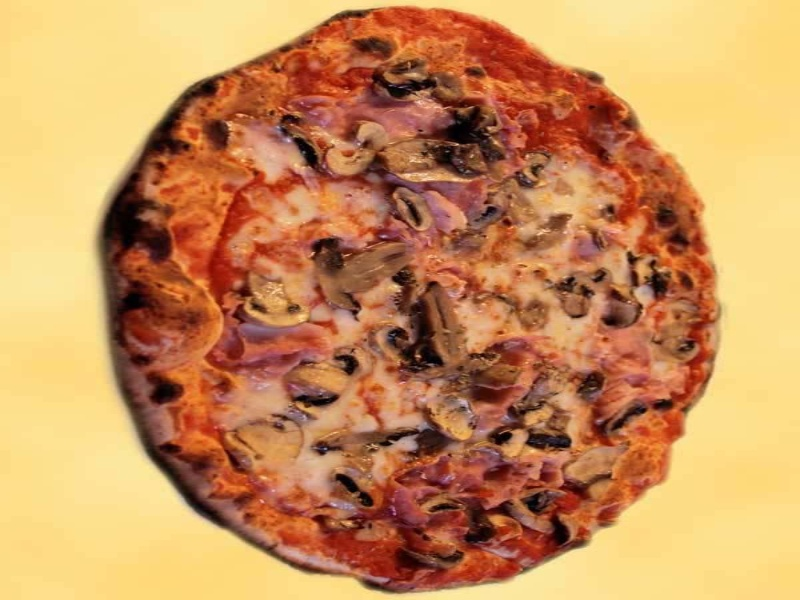champignon: (299, 238, 421, 319)
